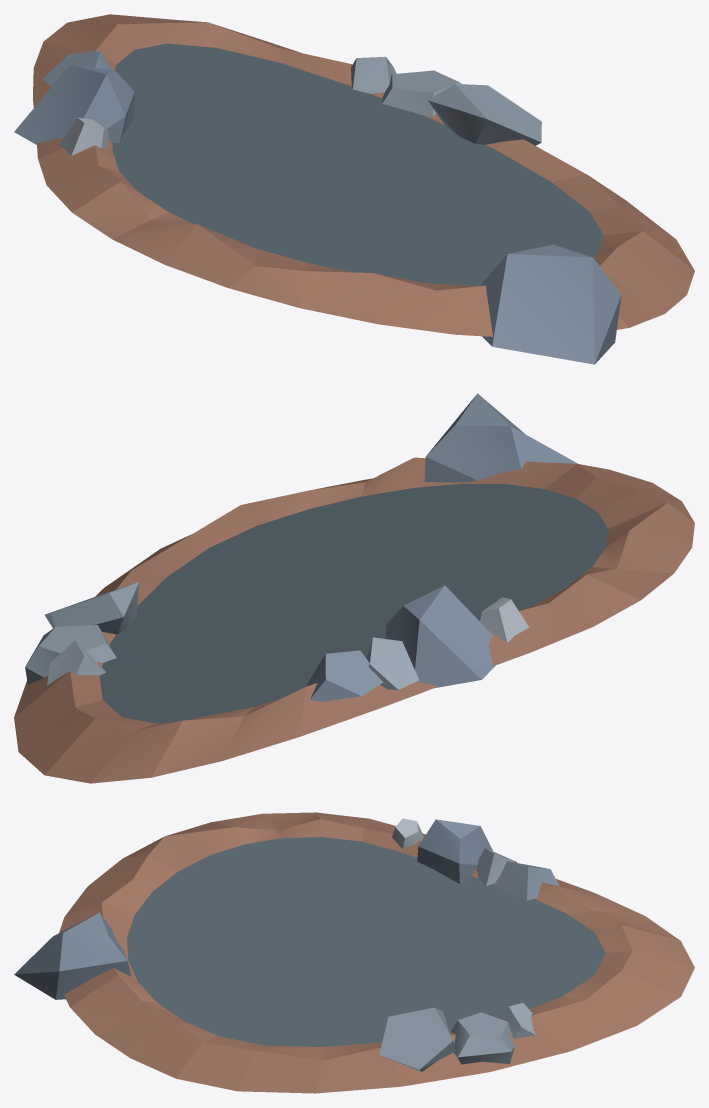
File: Pond.fbx
The picture shows the model from 3 angles, top to bottom: view 1: azimuth 30°, elevation 25°; view 2: azimuth 150°, elevation 25°; view 3: azimuth 270°, elevation 25°; orthographic projection. The views are drawn at different scales.
Parts seen in each view (by area): view 1: Scene; view 2: Scene; view 3: Scene.
Boxes of the visible parts, box(x1,y1,x2,y2) form: Scene: box(14, 14, 694, 364); Scene: box(14, 393, 694, 783); Scene: box(14, 812, 694, 1093).
Size of the model in its own units: 367 by 108 by 545.
